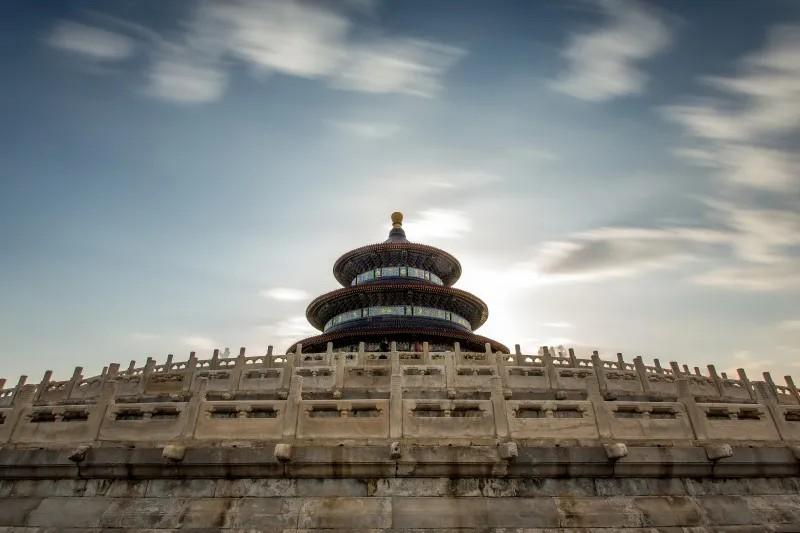Heaven: (284, 210, 510, 357)
